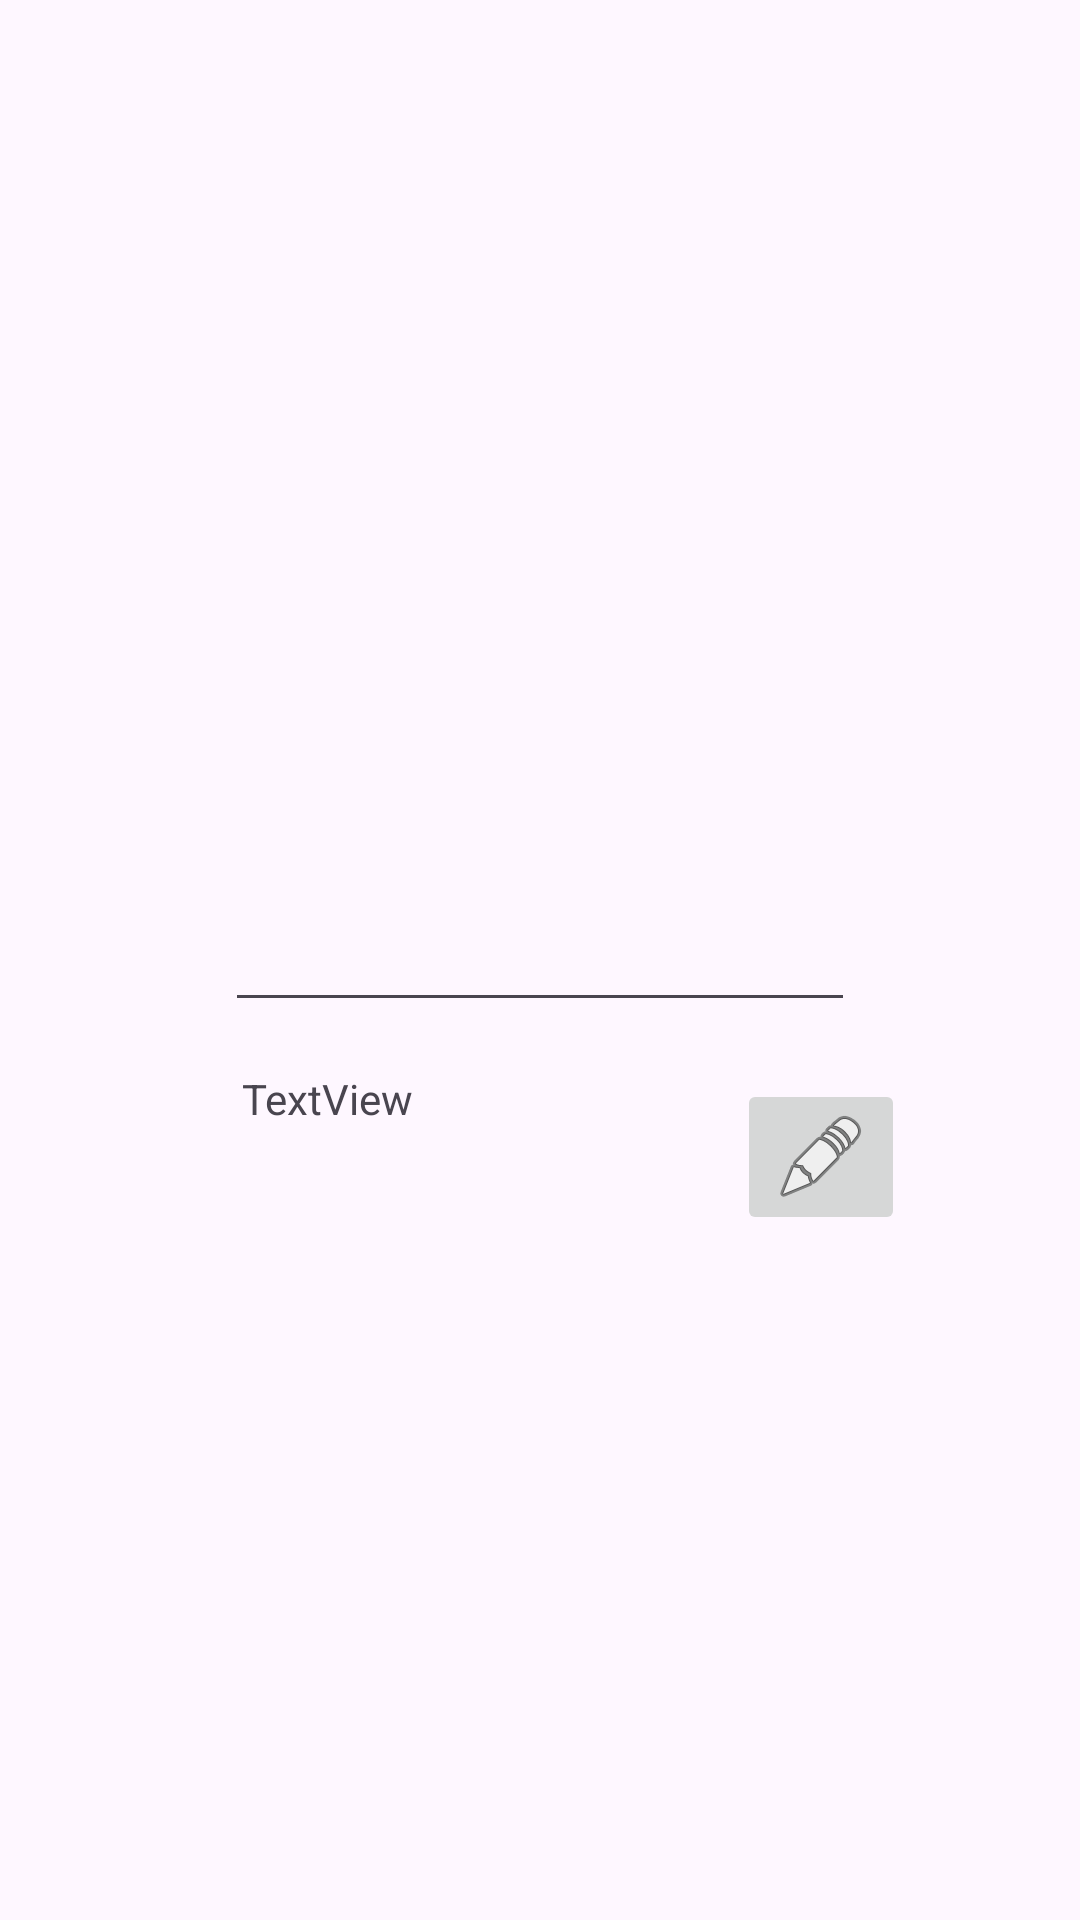

Where to tap for icons on this 1080 × 1920 app screen, as (x,y):
edit: (821,1157)
